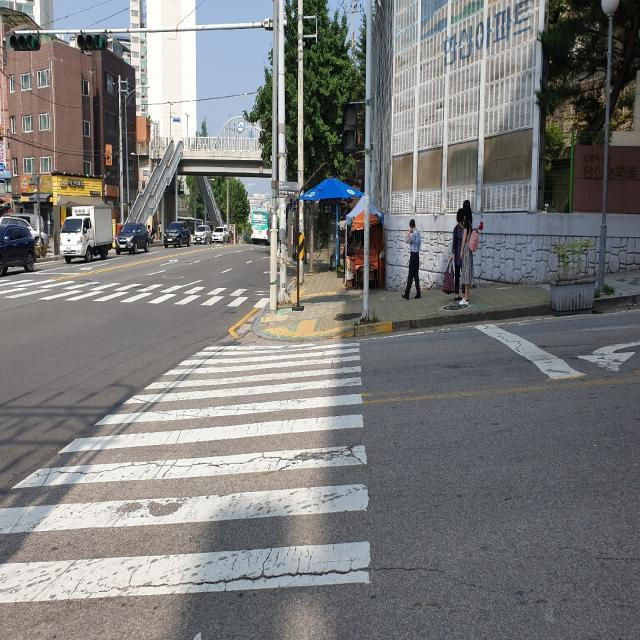횡단보도: (0, 338, 374, 611), (1, 266, 270, 317)
